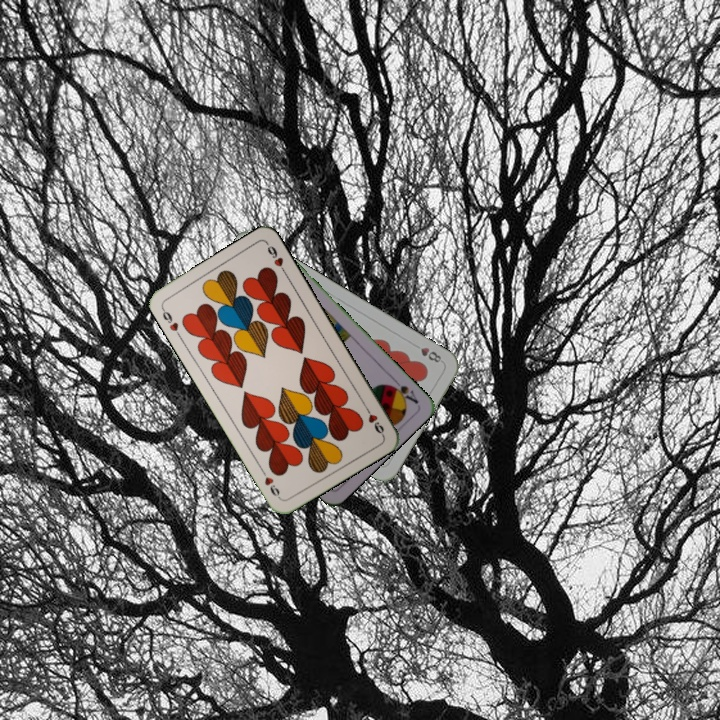H8: (416, 343, 446, 365)
H9: (360, 401, 387, 438), (158, 303, 181, 334)
SA: (384, 374, 421, 407)
